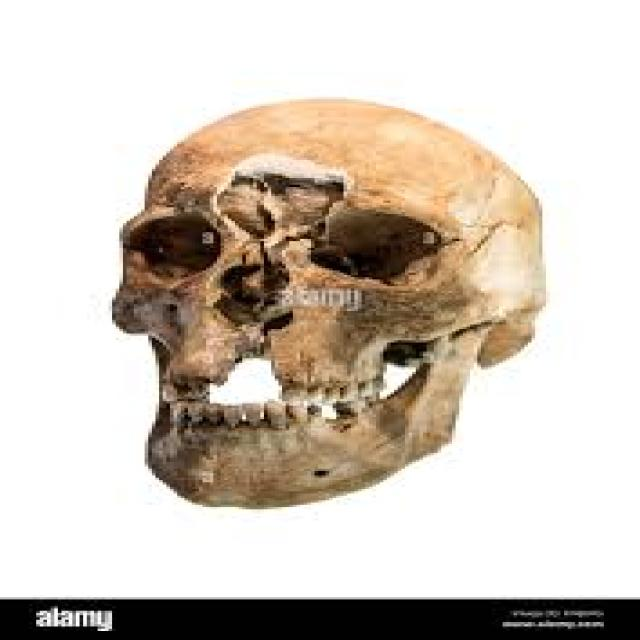skull: (90, 54, 580, 522)
